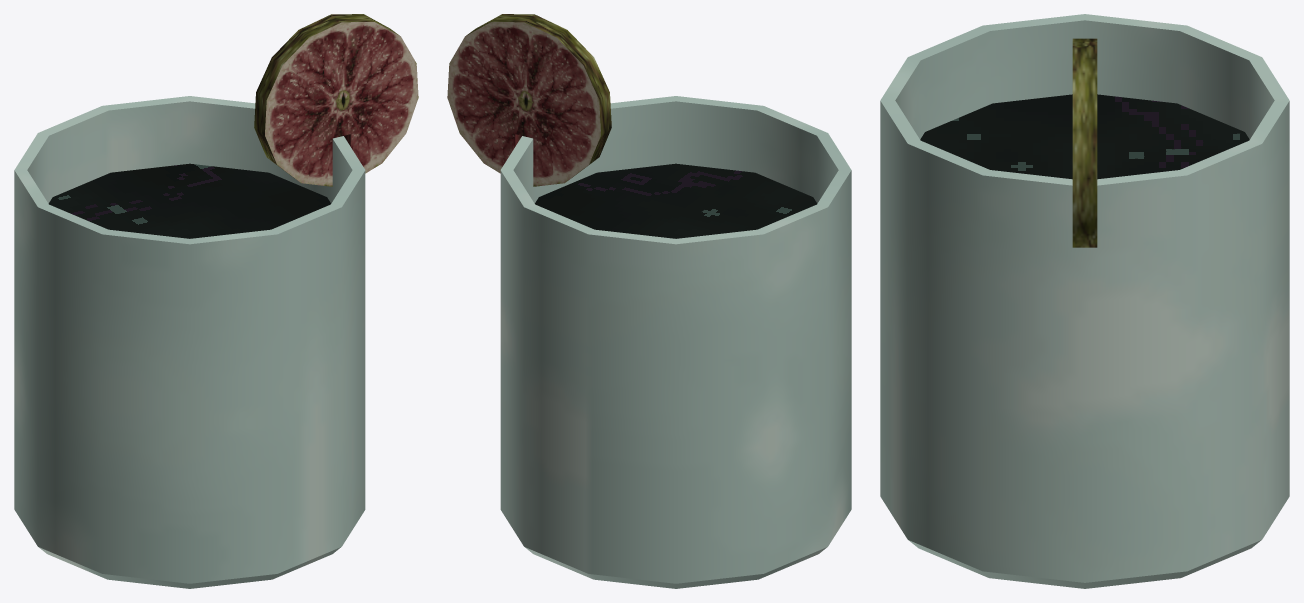
The model's file is HB_Drink_LowTide.fbx.
The picture shows the model from 3 angles, left to right: view 1: azimuth 30°, elevation 25°; view 2: azimuth 150°, elevation 25°; view 3: azimuth 270°, elevation 25°; orthographic projection. The views are drawn at different scales.
Visible parts, largest first — view 1: HB_Drink_LowTide_Glass, HB_Drink_LowTide_Garnish, HB_Drink_LowTide_Liquid; view 2: HB_Drink_LowTide_Glass, HB_Drink_LowTide_Garnish, HB_Drink_LowTide_Liquid; view 3: HB_Drink_LowTide_Glass, HB_Drink_LowTide_Liquid, HB_Drink_LowTide_Garnish.
Boxes of the visible parts, left/top/right/bottom form: HB_Drink_LowTide_Glass: left=14, top=96, right=365, bottom=588; HB_Drink_LowTide_Garnish: left=254, top=14, right=418, bottom=186; HB_Drink_LowTide_Liquid: left=48, top=163, right=330, bottom=238; HB_Drink_LowTide_Glass: left=500, top=96, right=851, bottom=588; HB_Drink_LowTide_Garnish: left=447, top=14, right=611, bottom=186; HB_Drink_LowTide_Liquid: left=535, top=163, right=817, bottom=238; HB_Drink_LowTide_Glass: left=880, top=14, right=1289, bottom=588; HB_Drink_LowTide_Liquid: left=920, top=94, right=1249, bottom=179; HB_Drink_LowTide_Garnish: left=1072, top=38, right=1097, bottom=247.
Bounding box in the file's own units: 0.1012 × 0.1199 × 0.082.
Materials: 3 (3 with a texture image).
